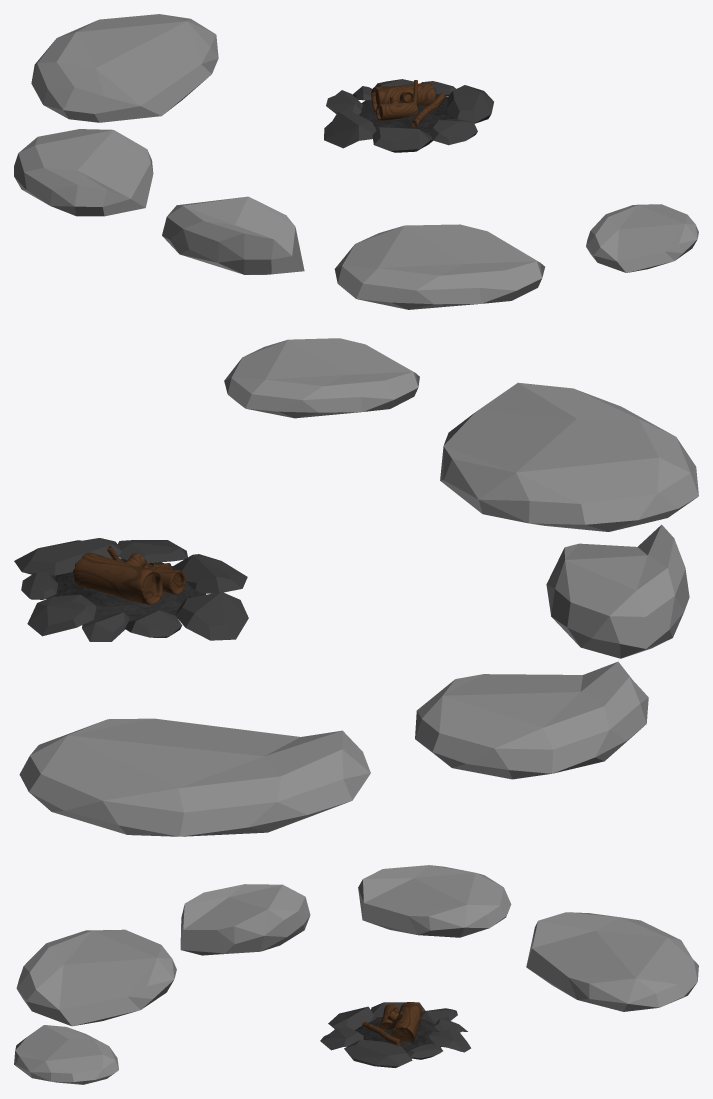
The model's file is firepit.fbx.
3 renders of one model, top to bottom at view 1: azimuth 30°, elevation 25°; view 2: azimuth 150°, elevation 25°; view 3: azimuth 270°, elevation 25°, orthographic. The views are drawn at different scales.
Visible parts, largest first — view 1: polySurface11, polySurface11.002, polySurface11.001, polySurface11.004, polySurface11.003, polySurface4.001, polySurface4.006, Sphere, polySurface4.005, Log1, polySurface4.004, Log1.002 (+1 smaller); view 2: polySurface11, polySurface11.002, polySurface11.001, polySurface11.004, polySurface11.003, Log1, polySurface4.006, Sphere, polySurface4.001, polySurface4.003, polySurface4.005, polySurface4.004 (+3 smaller); view 3: polySurface11, polySurface11.002, polySurface11.001, polySurface11.004, polySurface11.003, polySurface4.001, Log1, Sphere, polySurface4.005, polySurface4.004, polySurface4.003, polySurface4.007 (+1 smaller).
Part boxes in pixels (<box>): polySurface11: <box>31,14,218,122</box>; polySurface11.002: <box>334,224,544,309</box>; polySurface11.001: <box>14,129,153,216</box>; polySurface11.004: <box>162,196,304,274</box>; polySurface11.003: <box>586,204,698,272</box>; polySurface4.001: <box>446,85,493,123</box>; polySurface4.006: <box>324,111,376,148</box>; Sphere: <box>359,95,453,135</box>; polySurface4.005: <box>372,127,433,152</box>; Log1: <box>371,82,435,112</box>; polySurface4.004: <box>429,118,477,145</box>; Log1.002: <box>376,96,417,120</box>; polySurface11: <box>19,718,370,836</box>; polySurface11.002: <box>440,382,698,531</box>; polySurface11.001: <box>415,661,648,779</box>; polySurface11.004: <box>546,524,689,658</box>; polySurface11.003: <box>224,338,419,418</box>; Log1: <box>73,552,162,604</box>; polySurface4.006: <box>175,591,248,640</box>; Sphere: <box>46,558,205,621</box>; polySurface4.001: <box>14,538,121,577</box>; polySurface4.003: <box>27,594,96,636</box>; polySurface4.005: <box>173,554,247,593</box>; polySurface4.004: <box>117,540,187,563</box>; polySurface11: <box>526,912,698,1011</box>; polySurface11.002: <box>16,929,176,1026</box>; polySurface11.001: <box>358,865,511,937</box>; polySurface11.004: <box>180,884,310,955</box>; polySurface11.003: <box>14,1025,118,1084</box>; polySurface4.001: <box>344,1039,412,1067</box>; Log1: <box>387,1002,422,1043</box>; Sphere: <box>355,1017,440,1058</box>; polySurface4.005: <box>328,1006,375,1030</box>; polySurface4.004: <box>320,1027,363,1050</box>; polySurface4.003: <box>428,1029,470,1052</box>; polySurface4.007: <box>421,1008,457,1023</box>.
Size of the model in its own units: 433 by 44.1 by 606.
4 materials, 2 textured.
